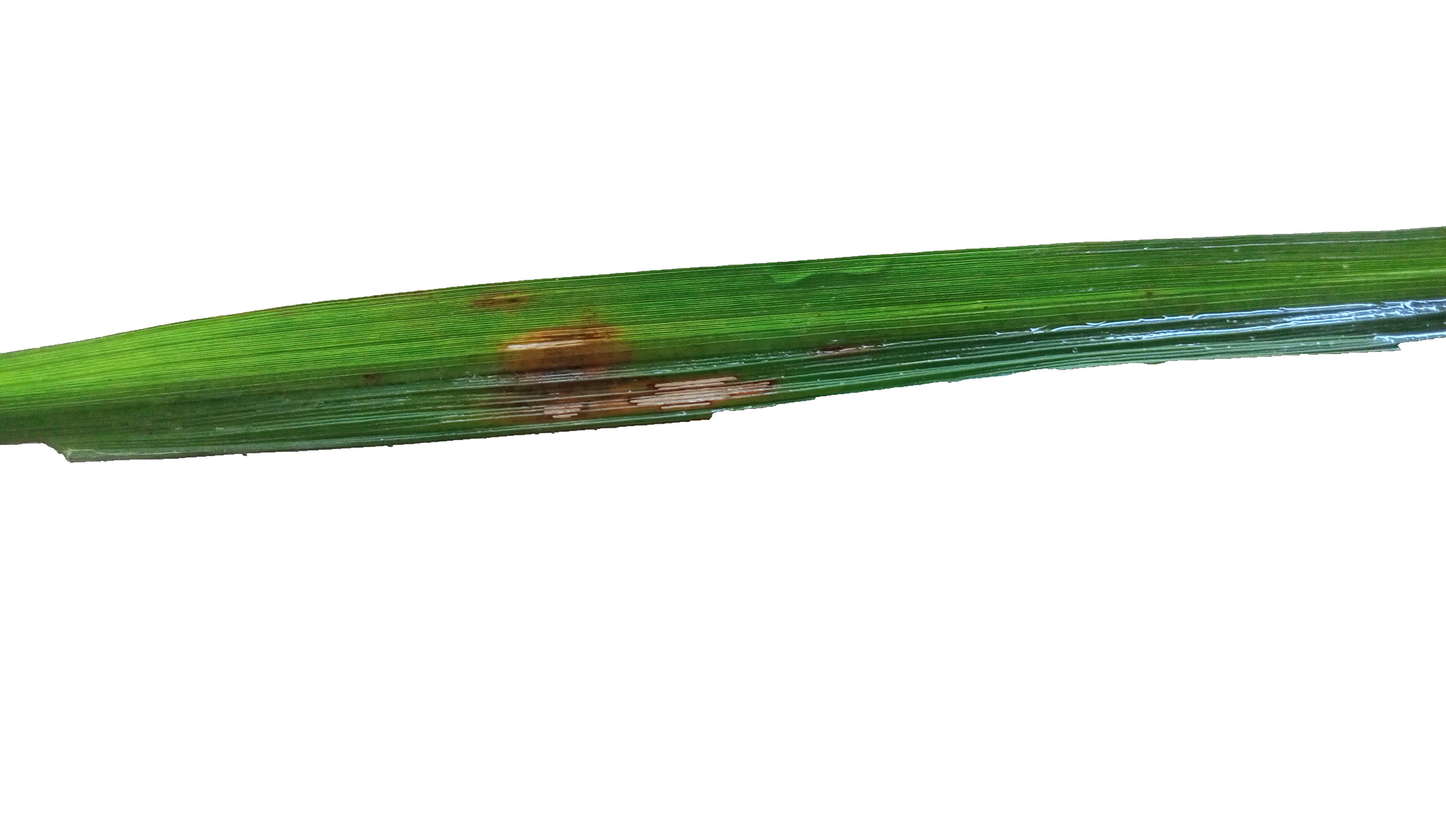Blight: (542, 354, 775, 429), (488, 320, 638, 410), (469, 278, 530, 332), (341, 363, 415, 394)
